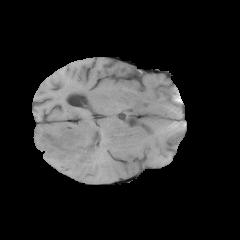glioma: (33, 96, 104, 177)
